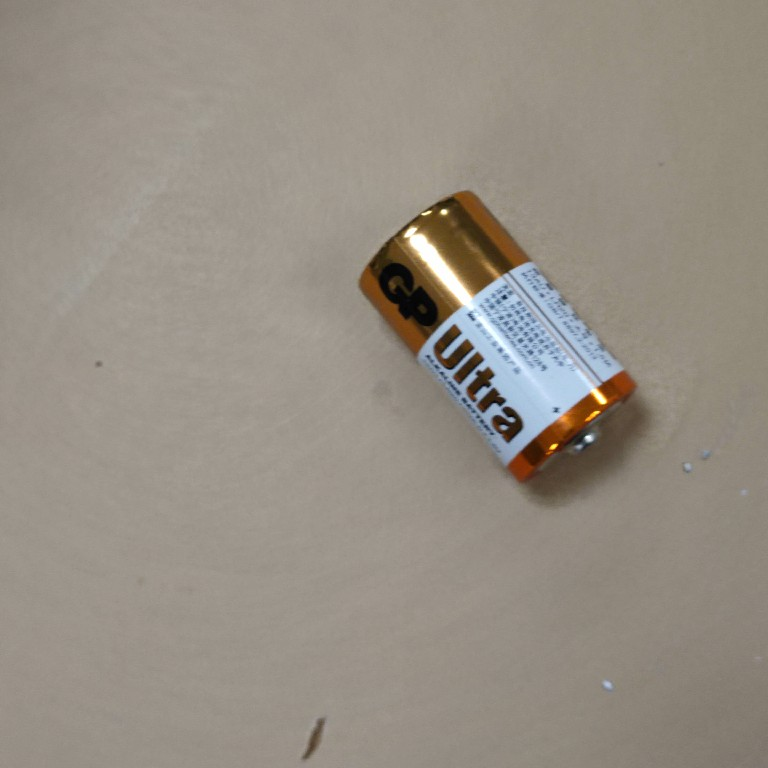charge: (355, 186, 640, 484)
